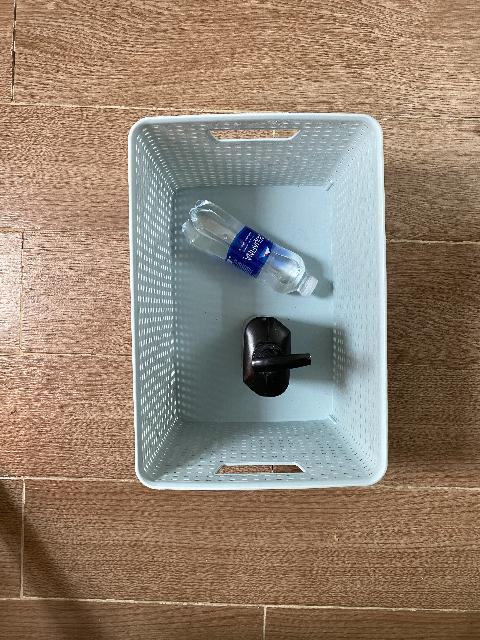X-men: (241, 315, 311, 397)
aquafina: (182, 200, 318, 298)
cart: (127, 113, 388, 492)
